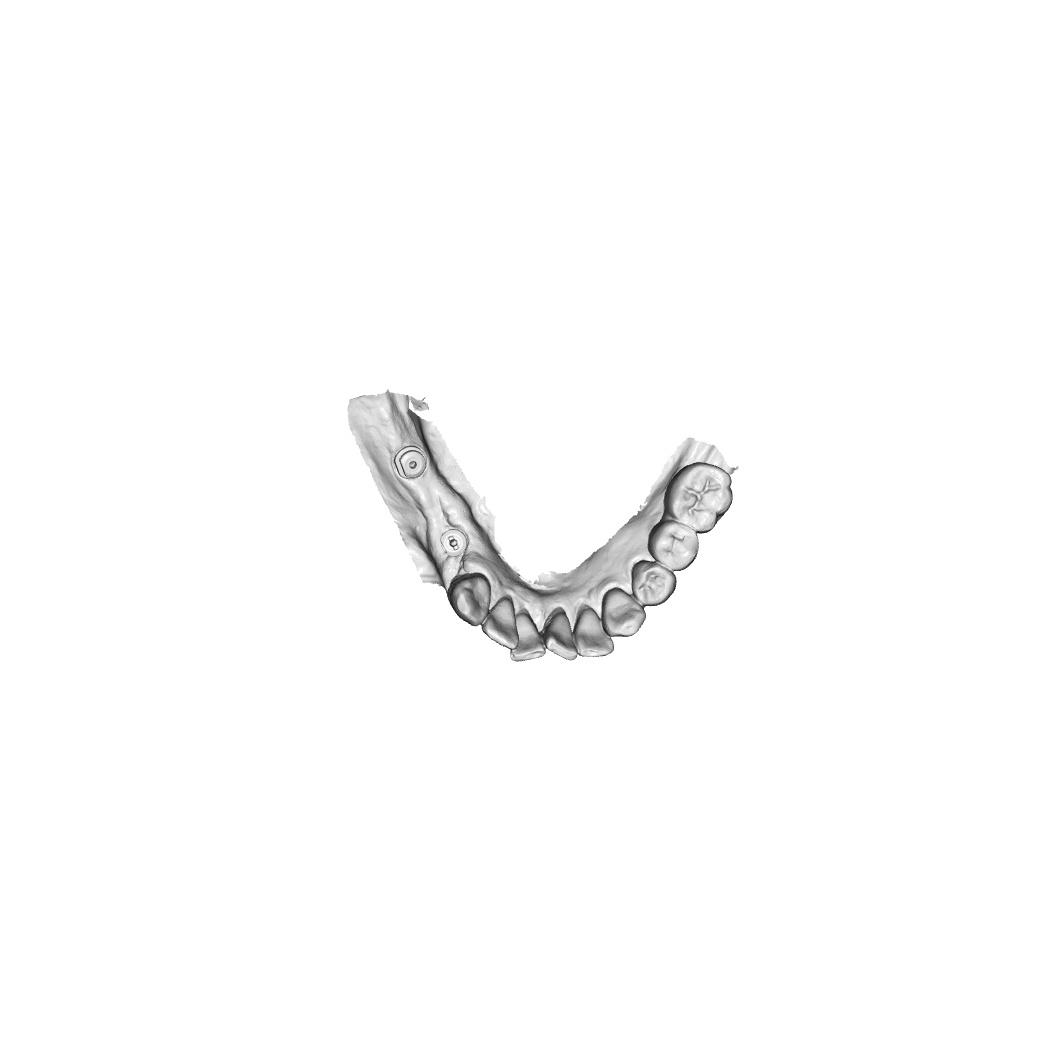canine: (446, 572, 493, 628), (600, 586, 648, 639)
implant: (392, 445, 429, 480)
implant_minus: (440, 528, 470, 559)
incisor: (572, 606, 616, 659), (481, 594, 520, 651), (509, 612, 546, 663), (543, 610, 579, 661)
molar: (663, 462, 735, 534)
premolar: (647, 520, 701, 573), (630, 559, 678, 607)
